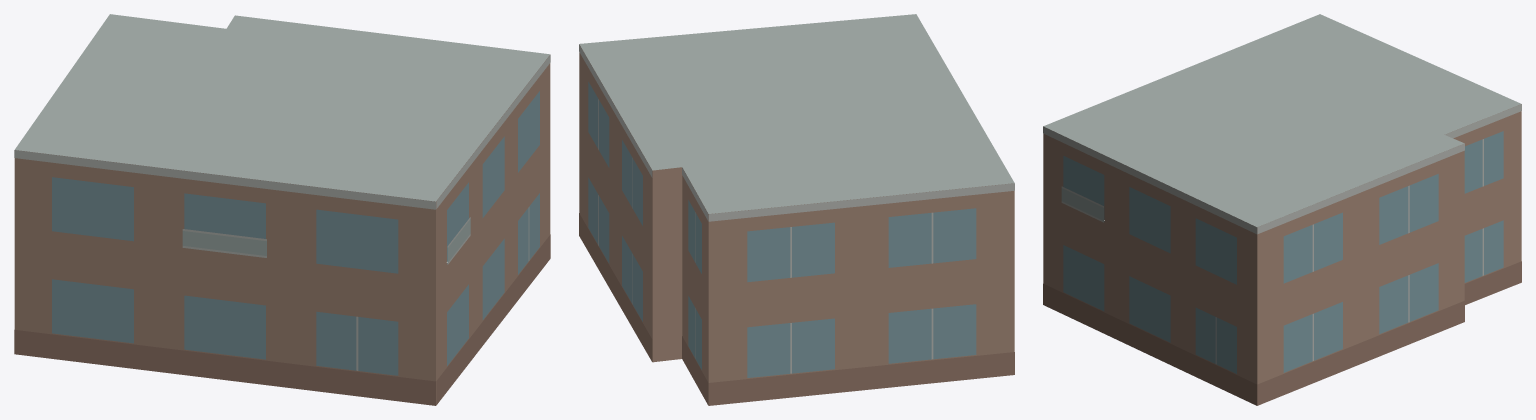
The model's file is survey-upis-33027593.glb.
3 renders of one model, left to right at view 1: azimuth 30°, elevation 25°; view 2: azimuth 150°, elevation 25°; view 3: azimuth 270°, elevation 25°, orthographic. The views are drawn at different scales.
Visible parts, largest first — view 1: survey-upis-33027593.tmp; view 2: survey-upis-33027593.tmp; view 3: survey-upis-33027593.tmp.
Boxes of the visible parts, <box> form: survey-upis-33027593.tmp: <box>14,14,550,405</box>; survey-upis-33027593.tmp: <box>579,14,1014,405</box>; survey-upis-33027593.tmp: <box>1043,14,1521,405</box>.
Bounding box in the file's own units: 15.63 × 6.1 × 14.82.
